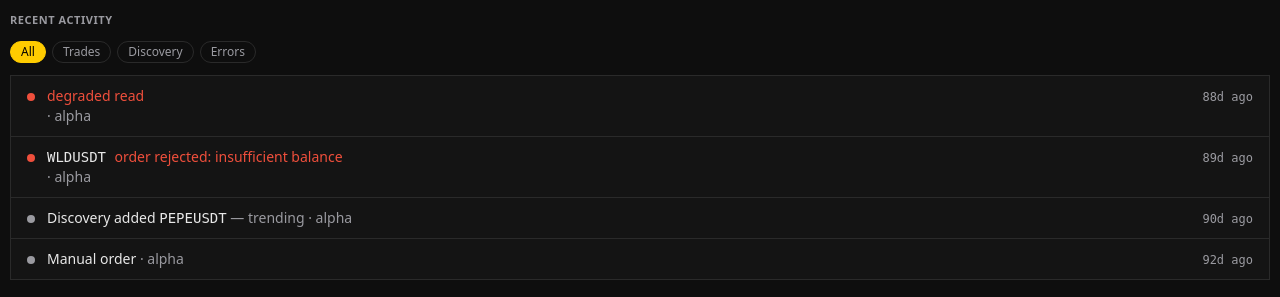
<ActivityFeed> › merges an action-log error row under the errors chip and all, not trades/discovery
Expected: the text "order rejected: insufficient balance" is shown, [114,146,343,166]
Expected: the text "degraded read" is shown, [47,86,144,104]
Click the tab with test id "activity-filter-errors". click: (228, 52)
box: [200,40,256,62]
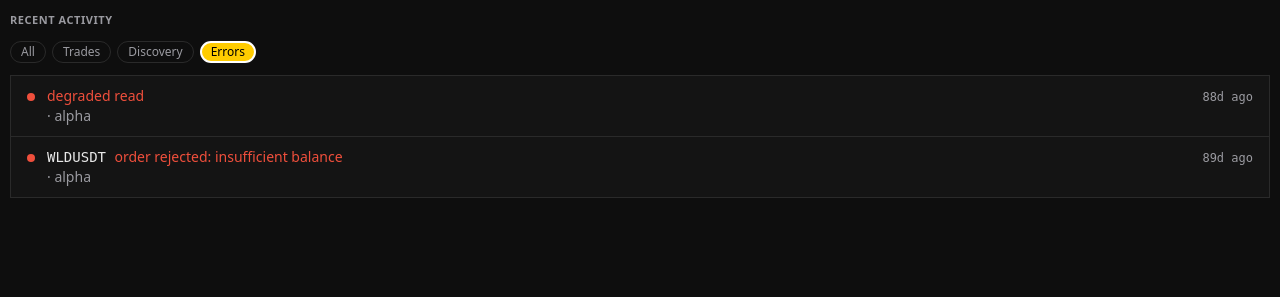
Expected: the text "order rejected: insufficient balance" is shown, [114,146,343,166]
Now the text "Manual order" is gone
Now the text "PEPEUSDT" is gone
// Trades chip: the error row is not a trade, so it disappears.
Click the tab with test id "activity-filter-trades". click: (82, 52)
box: [52,40,111,62]
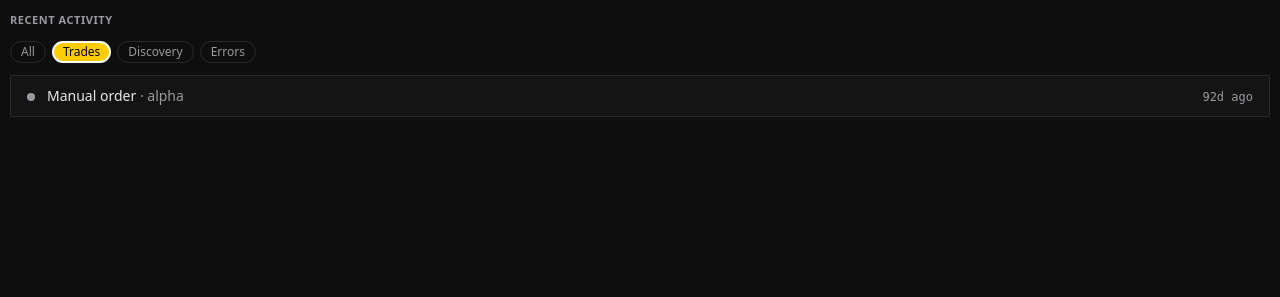
Now the text "order rejected: insufficient balance" is gone
Now the text "Manual order" is shown, box [47,86,136,104]
// Discovery chip: the error row is not a discovery row either.
Click the tab with test id "activity-filter-discovery". click: (155, 52)
box: [117,40,194,62]
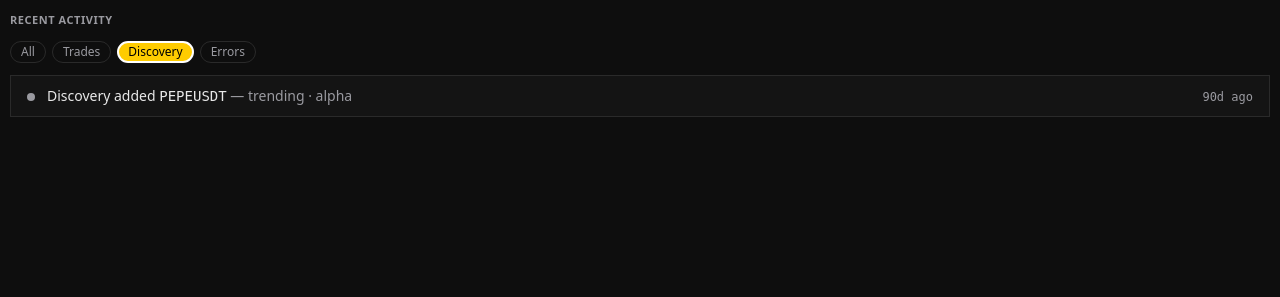
Expected: the text "order rejected: insufficient balance" is not shown
Now the text "PEPEUSDT" is shown, box [159,88,227,104]
